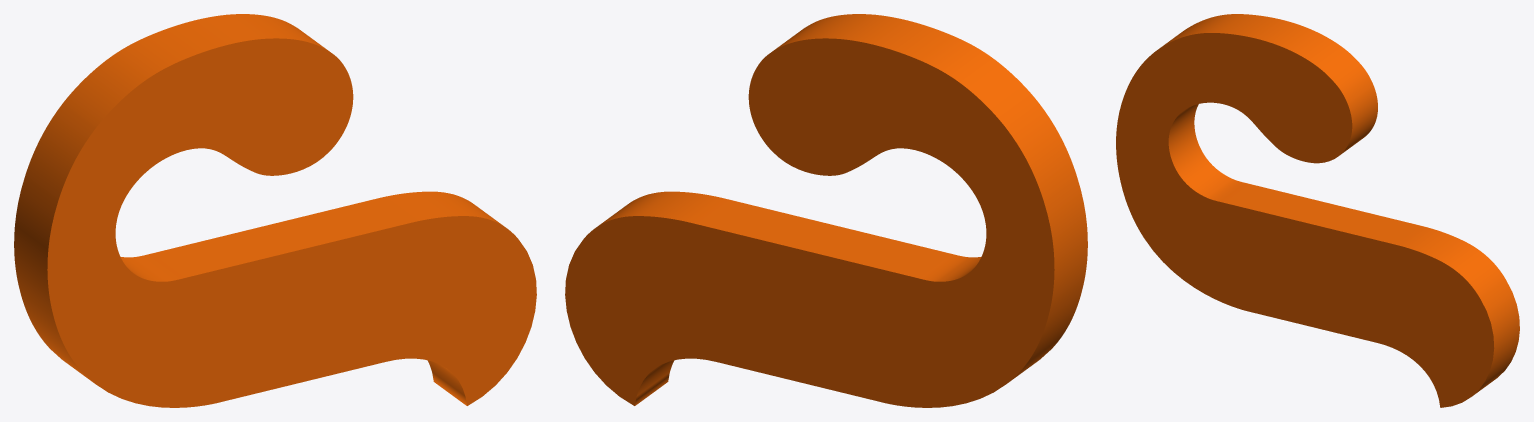
Rendered from ccccc.glb.
3 views of the same model, side by side, from view 1: azimuth 30°, elevation 25°; view 2: azimuth 150°, elevation 25°; view 3: azimuth 330°, elevation 25° (orthographic). The views are drawn at different scales.
Visible parts, largest first — view 1: Curve; view 2: Curve; view 3: Curve.
Part boxes in pixels (x1,y1,x2,y2): Curve: (14, 14, 536, 407); Curve: (565, 14, 1087, 407); Curve: (1116, 14, 1519, 407).
Bounding box in the file's own units: 2.18 × 1.78 × 0.2572.
